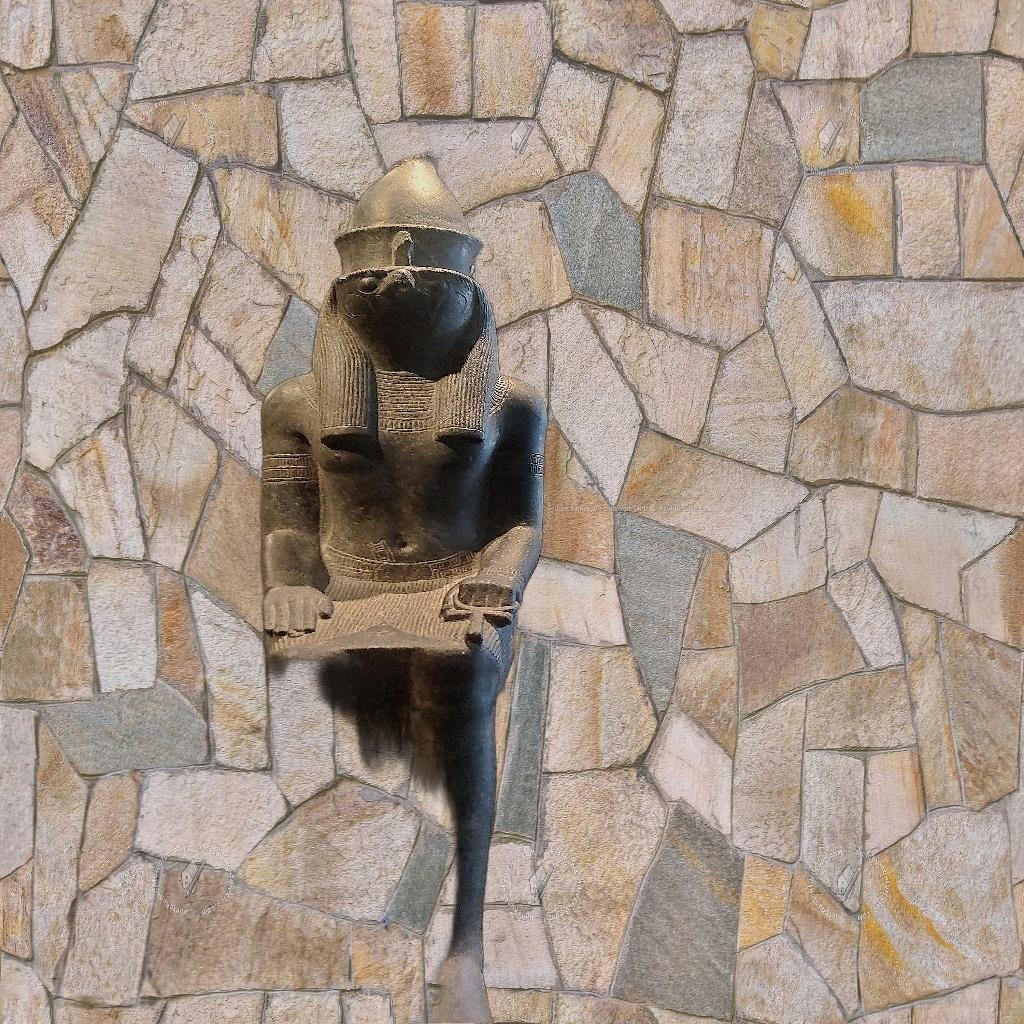Statue of God Ra-Horakhty: (221, 148, 581, 1022)
